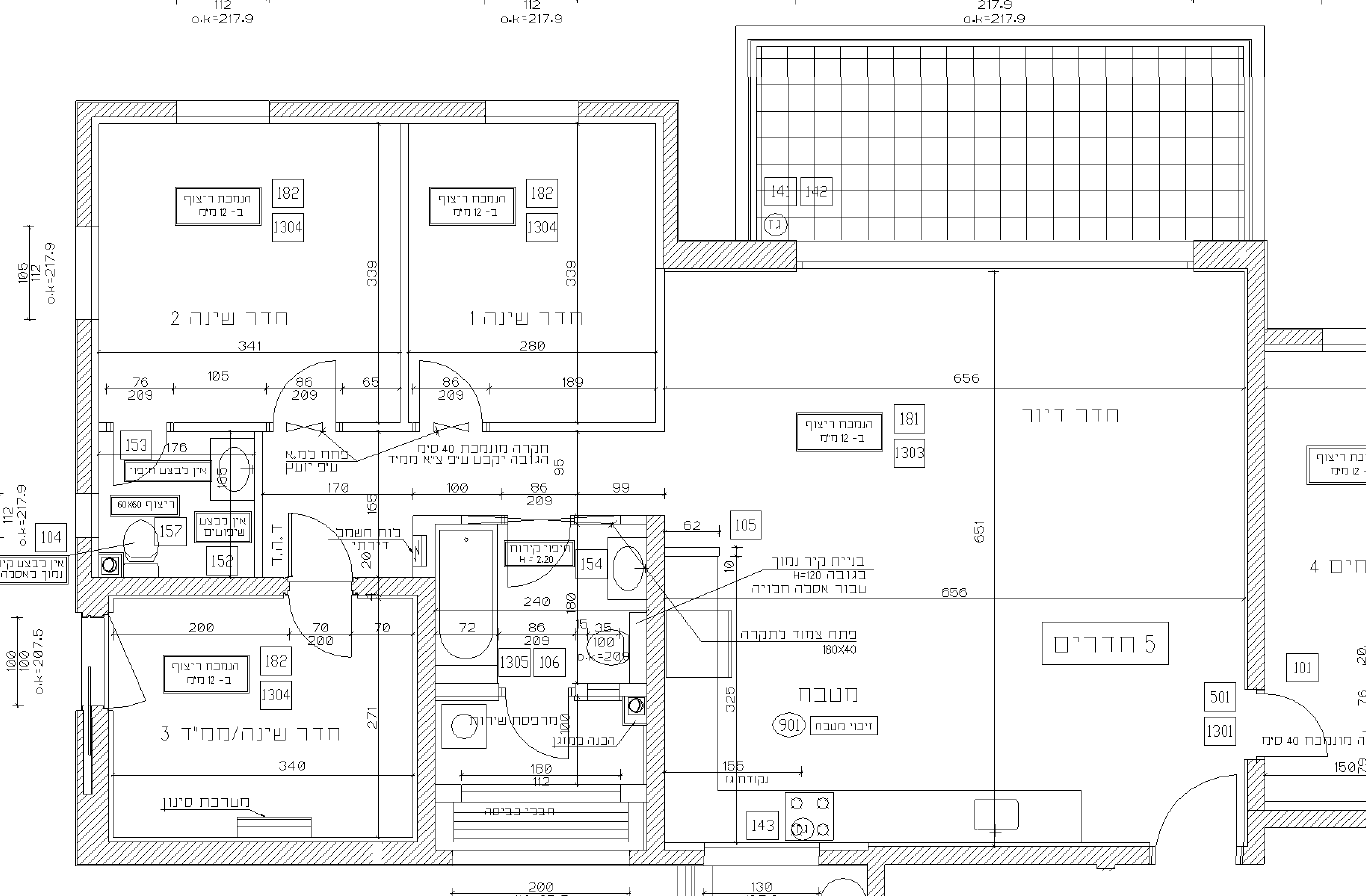door: (1157, 772, 1245, 891), (262, 355, 361, 444), (412, 360, 504, 447), (1251, 688, 1345, 765), (282, 587, 362, 665), (282, 504, 361, 581), (502, 683, 572, 759), (502, 513, 570, 590)
wall: (584, 81, 727, 262), (77, 834, 379, 887), (1233, 287, 1269, 648), (59, 90, 154, 210), (280, 88, 477, 129)
